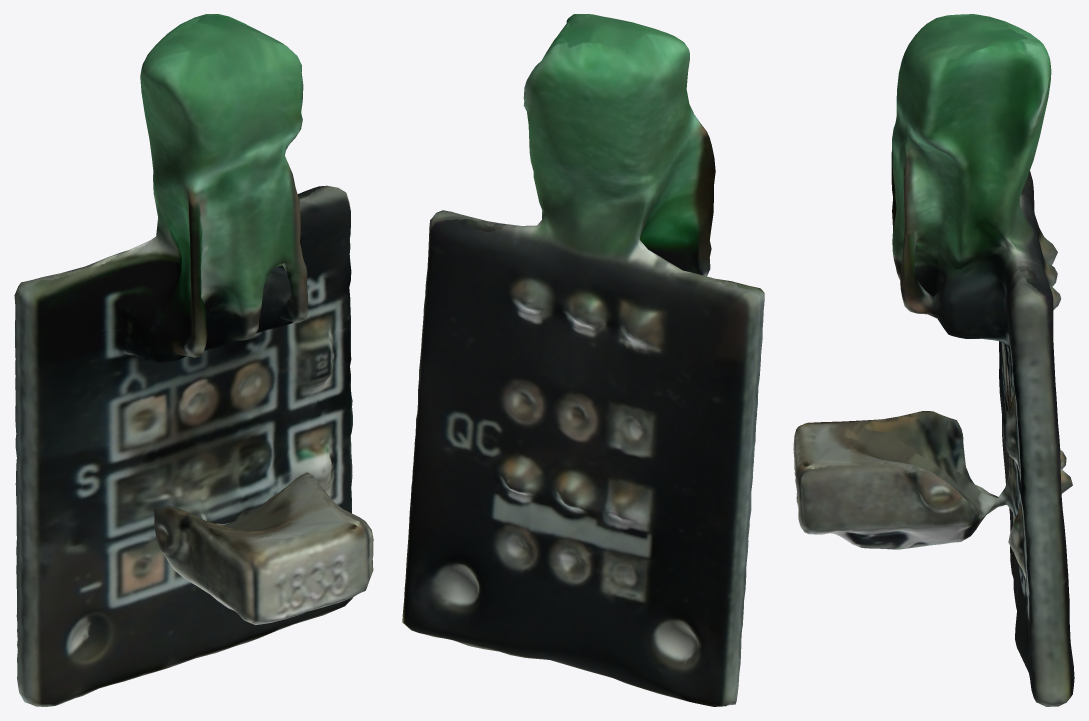
Rendered from example.glb.
The picture shows the model from 3 angles, left to right: view 1: azimuth 30°, elevation 25°; view 2: azimuth 150°, elevation 25°; view 3: azimuth 270°, elevation 25°; orthographic projection. The views are drawn at different scales.
Visible parts, largest first — view 1: ObjectCapture; view 2: ObjectCapture; view 3: ObjectCapture.
Part boxes in pixels (<box>): ObjectCapture: <box>14,14,373,706</box>; ObjectCapture: <box>402,14,764,706</box>; ObjectCapture: <box>793,14,1074,706</box>.
Size of the model in its own units: 0.2348 by 0.4188 by 0.172.
Materials: 1 (1 with a texture image).
